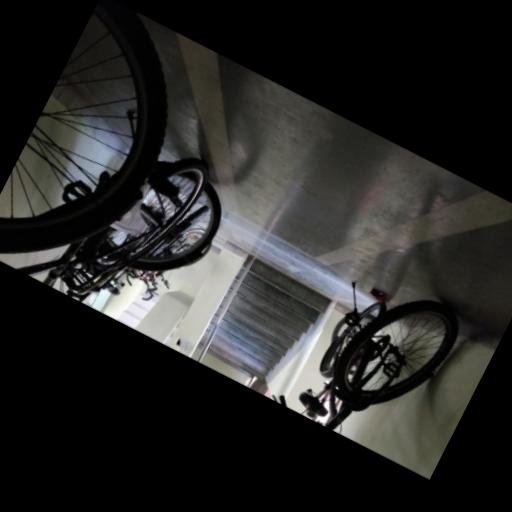stairs: (208, 259, 329, 377)
